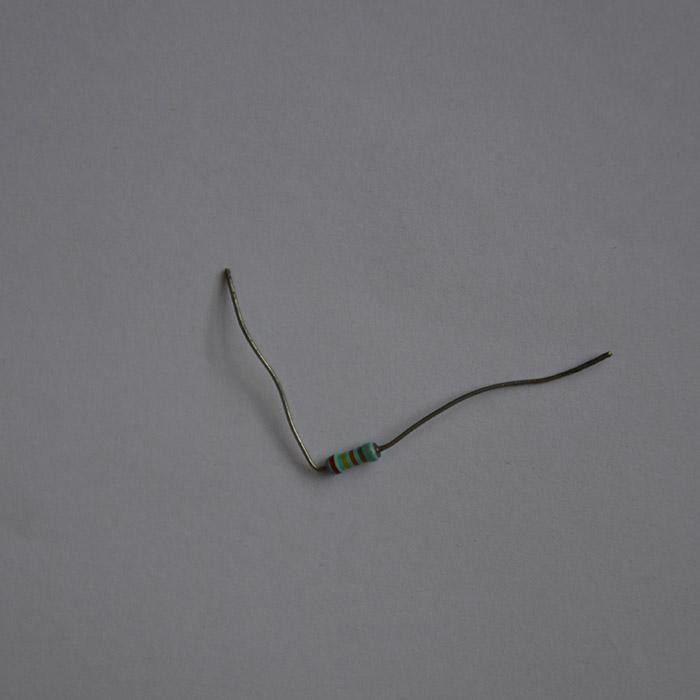resistor: (326, 441, 381, 474)
